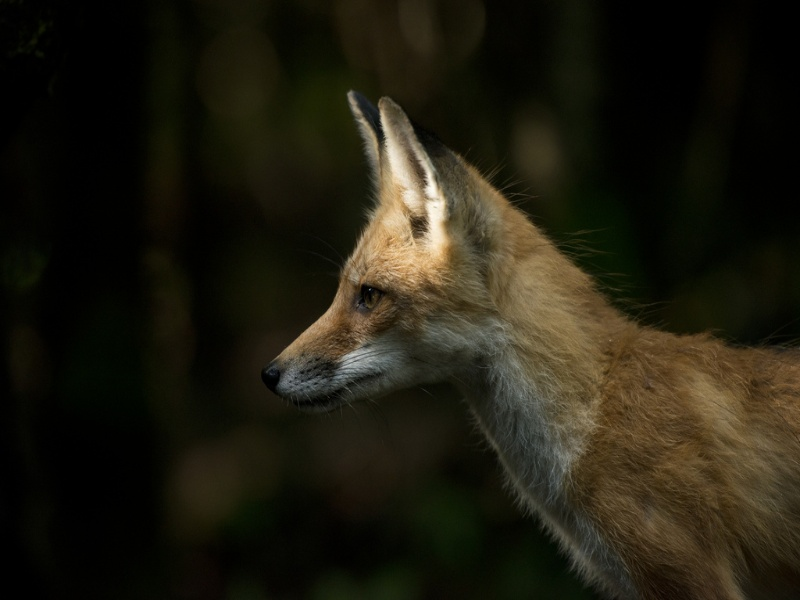fox: (257, 82, 800, 590)
